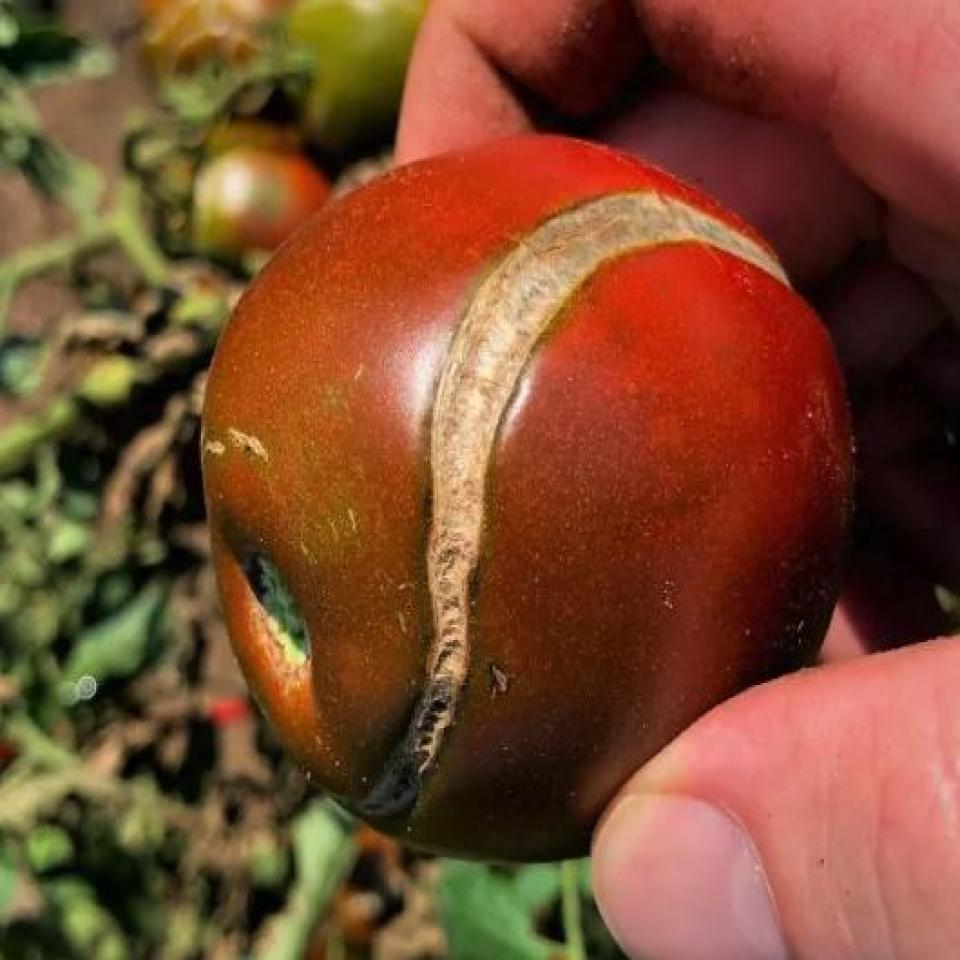Cracking: (338, 175, 789, 822)
